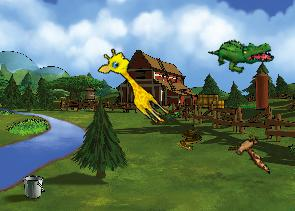crocodile: (207, 26, 276, 82)
eagle: (224, 129, 277, 174)
giraffe: (93, 44, 179, 128)
